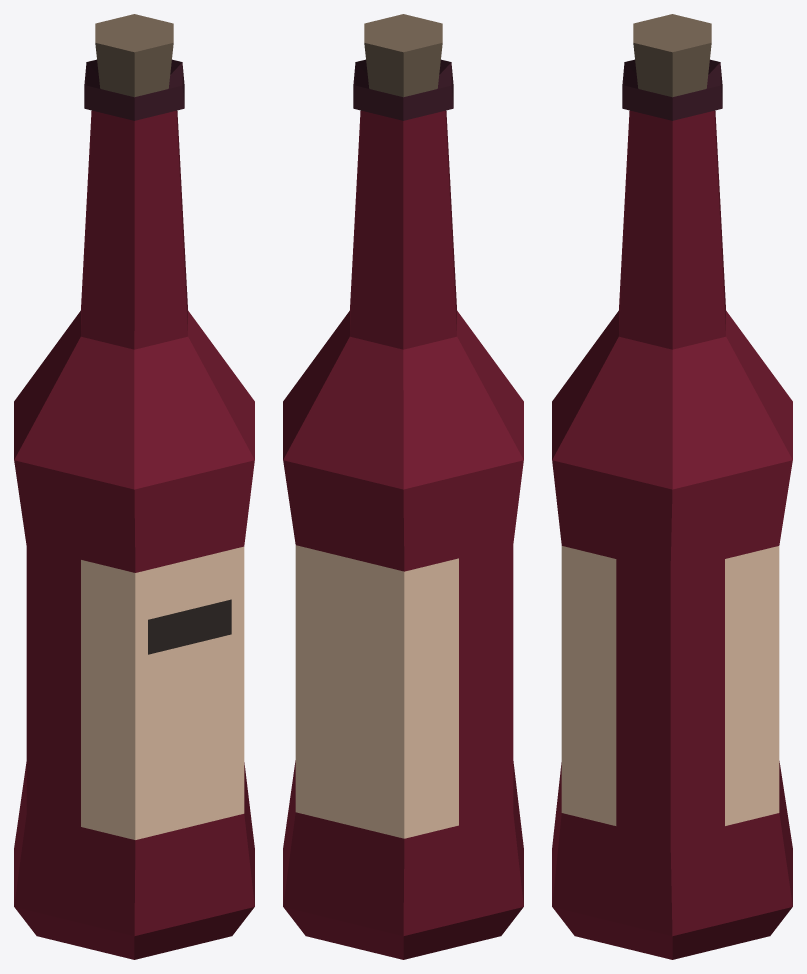
The model's file is Bottle.FBX.
3 renders of one model, left to right at view 1: azimuth 30°, elevation 25°; view 2: azimuth 150°, elevation 25°; view 3: azimuth 270°, elevation 25°, orthographic.
Visible parts, largest first — view 1: Bottle_01; view 2: Bottle_01; view 3: Bottle_01.
Boxes of the visible parts, x1,y1,x2,y2 form: Bottle_01: (14, 14, 254, 959); Bottle_01: (283, 14, 523, 959); Bottle_01: (552, 14, 792, 959).
Size of the model in its own units: 14.14 by 49.34 by 12.25.
